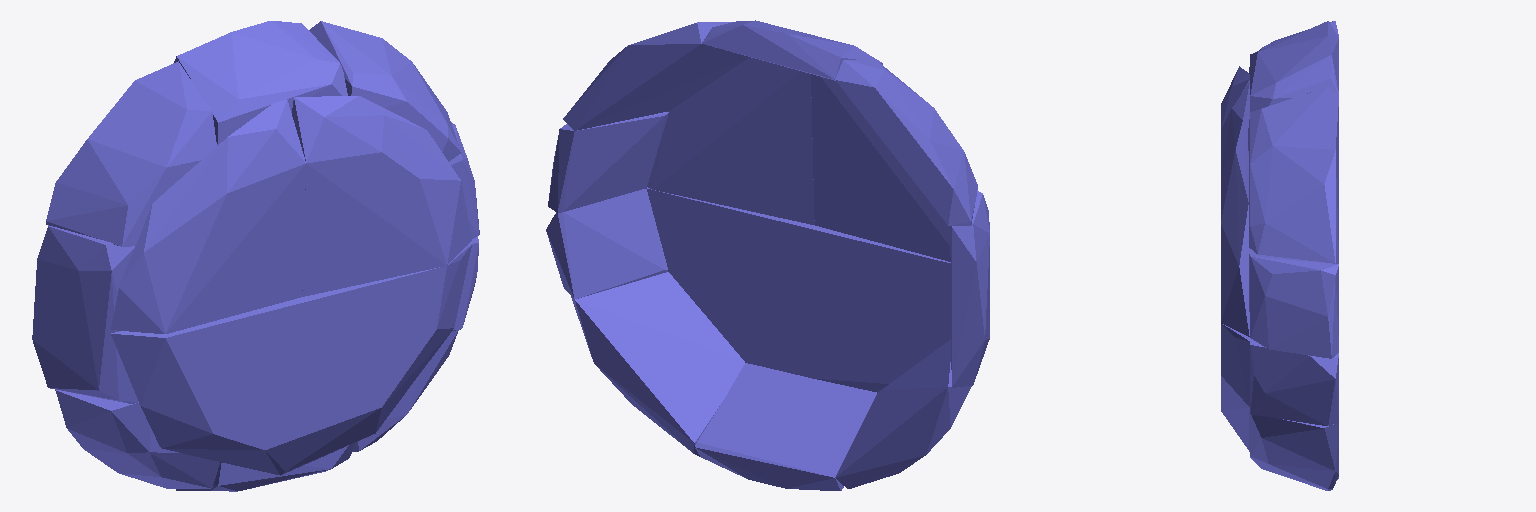
URDF robot description (root):
<robot name="root">
  <link name="link_bowl_6p25in_decomp_convex_piece_0">
    <inertial>
      <origin rpy="0 0 0" xyz="0 0 0"/>
      <mass value="2.82E-02"/>
      <inertia ixx="4.46E-05" ixy="-2.72E-07" ixz="-4.01E-08" iyy="5.36E-05" iyz="2.66E-05" izz="4.52E-05"/>
    </inertial>
    <visual>
      <origin rpy="0 0 0" xyz="0 0 0"/>
      <geometry>
        <mesh filename="bowl_6p25in_decomp_convex_piece_0.obj" scale="1.0000E+00 1.0000E+00 1.0000E+00"/>
      </geometry>
      <material name="">
        <color rgba="5.00E-01 5.00E-01 9.00E-01 1"/>
      </material>
    </visual>
    <collision>
      <origin rpy="0 0 0" xyz="0 0 0"/>
      <geometry>
        <mesh filename="bowl_6p25in_decomp_convex_piece_0.obj" scale="1.0000E+00 1.0000E+00 1.0000E+00"/>
      </geometry>
    </collision>
  </link>
  <link name="link_bowl_6p25in_decomp_convex_piece_1">
    <inertial>
      <origin rpy="0 0 0" xyz="0 0 0"/>
      <mass value="1.06E-02"/>
      <inertia ixx="2.54E-05" ixy="7.83E-06" ixz="-2.60E-05" iyy="5.73E-05" iyz="-8.03E-06" izz="2.43E-05"/>
    </inertial>
    <visual>
      <origin rpy="0 0 0" xyz="0 0 0"/>
      <geometry>
        <mesh filename="bowl_6p25in_decomp_convex_piece_1.obj" scale="1.0000E+00 1.0000E+00 1.0000E+00"/>
      </geometry>
      <material name="">
        <color rgba="5.00E-01 5.00E-01 9.00E-01 1"/>
      </material>
    </visual>
    <collision>
      <origin rpy="0 0 0" xyz="0 0 0"/>
      <geometry>
        <mesh filename="bowl_6p25in_decomp_convex_piece_1.obj" scale="1.0000E+00 1.0000E+00 1.0000E+00"/>
      </geometry>
    </collision>
  </link>
  <joint name="link_bowl_6p25in_decomp_convex_piece_1_joint" type="fixed">
    <origin rpy="0 0 0" xyz="0 0 0"/>
    <parent link="link_bowl_6p25in_decomp_convex_piece_0"/>
    <child link="link_bowl_6p25in_decomp_convex_piece_1"/>
  </joint>
  <link name="link_bowl_6p25in_decomp_convex_piece_2">
    <inertial>
      <origin rpy="0 0 0" xyz="0 0 0"/>
      <mass value="1.40E-02"/>
      <inertia ixx="2.35E-05" ixy="1.42E-05" ixz="-9.40E-06" iyy="2.97E-05" iyz="-1.38E-05" izz="2.41E-05"/>
    </inertial>
    <visual>
      <origin rpy="0 0 0" xyz="0 0 0"/>
      <geometry>
        <mesh filename="bowl_6p25in_decomp_convex_piece_2.obj" scale="1.0000E+00 1.0000E+00 1.0000E+00"/>
      </geometry>
      <material name="">
        <color rgba="5.00E-01 5.00E-01 9.00E-01 1"/>
      </material>
    </visual>
    <collision>
      <origin rpy="0 0 0" xyz="0 0 0"/>
      <geometry>
        <mesh filename="bowl_6p25in_decomp_convex_piece_2.obj" scale="1.0000E+00 1.0000E+00 1.0000E+00"/>
      </geometry>
    </collision>
  </link>
  <joint name="link_bowl_6p25in_decomp_convex_piece_2_joint" type="fixed">
    <origin rpy="0 0 0" xyz="0 0 0"/>
    <parent link="link_bowl_6p25in_decomp_convex_piece_1"/>
    <child link="link_bowl_6p25in_decomp_convex_piece_2"/>
  </joint>
  <link name="link_bowl_6p25in_decomp_convex_piece_3">
    <inertial>
      <origin rpy="0 0 0" xyz="0 0 0"/>
      <mass value="1.43E-02"/>
      <inertia ixx="2.45E-05" ixy="-1.42E-05" ixz="9.65E-06" iyy="3.03E-05" iyz="-1.44E-05" izz="2.42E-05"/>
    </inertial>
    <visual>
      <origin rpy="0 0 0" xyz="0 0 0"/>
      <geometry>
        <mesh filename="bowl_6p25in_decomp_convex_piece_3.obj" scale="1.0000E+00 1.0000E+00 1.0000E+00"/>
      </geometry>
      <material name="">
        <color rgba="5.00E-01 5.00E-01 9.00E-01 1"/>
      </material>
    </visual>
    <collision>
      <origin rpy="0 0 0" xyz="0 0 0"/>
      <geometry>
        <mesh filename="bowl_6p25in_decomp_convex_piece_3.obj" scale="1.0000E+00 1.0000E+00 1.0000E+00"/>
      </geometry>
    </collision>
  </link>
  <joint name="link_bowl_6p25in_decomp_convex_piece_3_joint" type="fixed">
    <origin rpy="0 0 0" xyz="0 0 0"/>
    <parent link="link_bowl_6p25in_decomp_convex_piece_2"/>
    <child link="link_bowl_6p25in_decomp_convex_piece_3"/>
  </joint>
  <link name="link_bowl_6p25in_decomp_convex_piece_4">
    <inertial>
      <origin rpy="0 0 0" xyz="0 0 0"/>
      <mass value="1.06E-02"/>
      <inertia ixx="2.56E-05" ixy="7.92E-06" ixz="2.64E-05" iyy="5.77E-05" iyz="8.10E-06" izz="2.44E-05"/>
    </inertial>
    <visual>
      <origin rpy="0 0 0" xyz="0 0 0"/>
      <geometry>
        <mesh filename="bowl_6p25in_decomp_convex_piece_4.obj" scale="1.0000E+00 1.0000E+00 1.0000E+00"/>
      </geometry>
      <material name="">
        <color rgba="5.00E-01 5.00E-01 9.00E-01 1"/>
      </material>
    </visual>
    <collision>
      <origin rpy="0 0 0" xyz="0 0 0"/>
      <geometry>
        <mesh filename="bowl_6p25in_decomp_convex_piece_4.obj" scale="1.0000E+00 1.0000E+00 1.0000E+00"/>
      </geometry>
    </collision>
  </link>
  <joint name="link_bowl_6p25in_decomp_convex_piece_4_joint" type="fixed">
    <origin rpy="0 0 0" xyz="0 0 0"/>
    <parent link="link_bowl_6p25in_decomp_convex_piece_3"/>
    <child link="link_bowl_6p25in_decomp_convex_piece_4"/>
  </joint>
  <link name="link_bowl_6p25in_decomp_convex_piece_5">
    <inertial>
      <origin rpy="0 0 0" xyz="0 0 0"/>
      <mass value="1.01E-02"/>
      <inertia ixx="4.75E-05" ixy="1.25E-07" ixz="4.90E-07" iyy="5.30E-05" iyz="1.17E-05" izz="-7.65E-07"/>
    </inertial>
    <visual>
      <origin rpy="0 0 0" xyz="0 0 0"/>
      <geometry>
        <mesh filename="bowl_6p25in_decomp_convex_piece_5.obj" scale="1.0000E+00 1.0000E+00 1.0000E+00"/>
      </geometry>
      <material name="">
        <color rgba="5.00E-01 5.00E-01 9.00E-01 1"/>
      </material>
    </visual>
    <collision>
      <origin rpy="0 0 0" xyz="0 0 0"/>
      <geometry>
        <mesh filename="bowl_6p25in_decomp_convex_piece_5.obj" scale="1.0000E+00 1.0000E+00 1.0000E+00"/>
      </geometry>
    </collision>
  </link>
  <joint name="link_bowl_6p25in_decomp_convex_piece_5_joint" type="fixed">
    <origin rpy="0 0 0" xyz="0 0 0"/>
    <parent link="link_bowl_6p25in_decomp_convex_piece_4"/>
    <child link="link_bowl_6p25in_decomp_convex_piece_5"/>
  </joint>
  <link name="link_bowl_6p25in_decomp_convex_piece_6">
    <inertial>
      <origin rpy="0 0 0" xyz="0 0 0"/>
      <mass value="1.12E-02"/>
      <inertia ixx="2.95E-05" ixy="-7.97E-06" ixz="2.73E-05" iyy="6.06E-05" iyz="-9.02E-06" izz="2.32E-05"/>
    </inertial>
    <visual>
      <origin rpy="0 0 0" xyz="0 0 0"/>
      <geometry>
        <mesh filename="bowl_6p25in_decomp_convex_piece_6.obj" scale="1.0000E+00 1.0000E+00 1.0000E+00"/>
      </geometry>
      <material name="">
        <color rgba="5.00E-01 5.00E-01 9.00E-01 1"/>
      </material>
    </visual>
    <collision>
      <origin rpy="0 0 0" xyz="0 0 0"/>
      <geometry>
        <mesh filename="bowl_6p25in_decomp_convex_piece_6.obj" scale="1.0000E+00 1.0000E+00 1.0000E+00"/>
      </geometry>
    </collision>
  </link>
  <joint name="link_bowl_6p25in_decomp_convex_piece_6_joint" type="fixed">
    <origin rpy="0 0 0" xyz="0 0 0"/>
    <parent link="link_bowl_6p25in_decomp_convex_piece_5"/>
    <child link="link_bowl_6p25in_decomp_convex_piece_6"/>
  </joint>
  <link name="link_bowl_6p25in_decomp_convex_piece_7">
    <inertial>
      <origin rpy="0 0 0" xyz="0 0 0"/>
      <mass value="1.12E-02"/>
      <inertia ixx="-4.55E-07" ixy="1.25E-05" ixz="-3.33E-07" iyy="5.79E-05" iyz="-1.23E-07" izz="5.11E-05"/>
    </inertial>
    <visual>
      <origin rpy="0 0 0" xyz="0 0 0"/>
      <geometry>
        <mesh filename="bowl_6p25in_decomp_convex_piece_7.obj" scale="1.0000E+00 1.0000E+00 1.0000E+00"/>
      </geometry>
      <material name="">
        <color rgba="5.00E-01 5.00E-01 9.00E-01 1"/>
      </material>
    </visual>
    <collision>
      <origin rpy="0 0 0" xyz="0 0 0"/>
      <geometry>
        <mesh filename="bowl_6p25in_decomp_convex_piece_7.obj" scale="1.0000E+00 1.0000E+00 1.0000E+00"/>
      </geometry>
    </collision>
  </link>
  <joint name="link_bowl_6p25in_decomp_convex_piece_7_joint" type="fixed">
    <origin rpy="0 0 0" xyz="0 0 0"/>
    <parent link="link_bowl_6p25in_decomp_convex_piece_6"/>
    <child link="link_bowl_6p25in_decomp_convex_piece_7"/>
  </joint>
  <link name="link_bowl_6p25in_decomp_convex_piece_8">
    <inertial>
      <origin rpy="0 0 0" xyz="0 0 0"/>
      <mass value="5.06E-03"/>
      <inertia ixx="3.91E-08" ixy="-5.86E-06" ixz="5.57E-06" iyy="2.77E-05" iyz="-1.32E-06" izz="2.45E-05"/>
    </inertial>
    <visual>
      <origin rpy="0 0 0" xyz="0 0 0"/>
      <geometry>
        <mesh filename="bowl_6p25in_decomp_convex_piece_8.obj" scale="1.0000E+00 1.0000E+00 1.0000E+00"/>
      </geometry>
      <material name="">
        <color rgba="5.00E-01 5.00E-01 9.00E-01 1"/>
      </material>
    </visual>
    <collision>
      <origin rpy="0 0 0" xyz="0 0 0"/>
      <geometry>
        <mesh filename="bowl_6p25in_decomp_convex_piece_8.obj" scale="1.0000E+00 1.0000E+00 1.0000E+00"/>
      </geometry>
    </collision>
  </link>
  <joint name="link_bowl_6p25in_decomp_convex_piece_8_joint" type="fixed">
    <origin rpy="0 0 0" xyz="0 0 0"/>
    <parent link="link_bowl_6p25in_decomp_convex_piece_7"/>
    <child link="link_bowl_6p25in_decomp_convex_piece_8"/>
  </joint>
  <link name="link_bowl_6p25in_decomp_convex_piece_9">
    <inertial>
      <origin rpy="0 0 0" xyz="0 0 0"/>
      <mass value="1.07E-02"/>
      <inertia ixx="2.73E-05" ixy="-7.79E-06" ixz="-2.62E-05" iyy="5.78E-05" iyz="8.50E-06" izz="2.30E-05"/>
    </inertial>
    <visual>
      <origin rpy="0 0 0" xyz="0 0 0"/>
      <geometry>
        <mesh filename="bowl_6p25in_decomp_convex_piece_9.obj" scale="1.0000E+00 1.0000E+00 1.0000E+00"/>
      </geometry>
      <material name="">
        <color rgba="5.00E-01 5.00E-01 9.00E-01 1"/>
      </material>
    </visual>
    <collision>
      <origin rpy="0 0 0" xyz="0 0 0"/>
      <geometry>
        <mesh filename="bowl_6p25in_decomp_convex_piece_9.obj" scale="1.0000E+00 1.0000E+00 1.0000E+00"/>
      </geometry>
    </collision>
  </link>
  <joint name="link_bowl_6p25in_decomp_convex_piece_9_joint" type="fixed">
    <origin rpy="0 0 0" xyz="0 0 0"/>
    <parent link="link_bowl_6p25in_decomp_convex_piece_8"/>
    <child link="link_bowl_6p25in_decomp_convex_piece_9"/>
  </joint>
  <link name="link_bowl_6p25in_decomp_convex_piece_10">
    <inertial>
      <origin rpy="0 0 0" xyz="0 0 0"/>
      <mass value="9.32E-03"/>
      <inertia ixx="4.42E-05" ixy="4.01E-07" ixz="-1.63E-06" iyy="4.92E-05" iyz="-1.07E-05" izz="-9.24E-07"/>
    </inertial>
    <visual>
      <origin rpy="0 0 0" xyz="0 0 0"/>
      <geometry>
        <mesh filename="bowl_6p25in_decomp_convex_piece_10.obj" scale="1.0000E+00 1.0000E+00 1.0000E+00"/>
      </geometry>
      <material name="">
        <color rgba="5.00E-01 5.00E-01 9.00E-01 1"/>
      </material>
    </visual>
    <collision>
      <origin rpy="0 0 0" xyz="0 0 0"/>
      <geometry>
        <mesh filename="bowl_6p25in_decomp_convex_piece_10.obj" scale="1.0000E+00 1.0000E+00 1.0000E+00"/>
      </geometry>
    </collision>
  </link>
  <joint name="link_bowl_6p25in_decomp_convex_piece_10_joint" type="fixed">
    <origin rpy="0 0 0" xyz="0 0 0"/>
    <parent link="link_bowl_6p25in_decomp_convex_piece_9"/>
    <child link="link_bowl_6p25in_decomp_convex_piece_10"/>
  </joint>
  <link name="link_bowl_6p25in_decomp_convex_piece_11">
    <inertial>
      <origin rpy="0 0 0" xyz="0 0 0"/>
      <mass value="4.73E-03"/>
      <inertia ixx="1.51E-07" ixy="-5.54E-06" ixz="-5.41E-06" iyy="2.58E-05" iyz="1.32E-06" izz="2.27E-05"/>
    </inertial>
    <visual>
      <origin rpy="0 0 0" xyz="0 0 0"/>
      <geometry>
        <mesh filename="bowl_6p25in_decomp_convex_piece_11.obj" scale="1.0000E+00 1.0000E+00 1.0000E+00"/>
      </geometry>
      <material name="">
        <color rgba="5.00E-01 5.00E-01 9.00E-01 1"/>
      </material>
    </visual>
    <collision>
      <origin rpy="0 0 0" xyz="0 0 0"/>
      <geometry>
        <mesh filename="bowl_6p25in_decomp_convex_piece_11.obj" scale="1.0000E+00 1.0000E+00 1.0000E+00"/>
      </geometry>
    </collision>
  </link>
  <joint name="link_bowl_6p25in_decomp_convex_piece_11_joint" type="fixed">
    <origin rpy="0 0 0" xyz="0 0 0"/>
    <parent link="link_bowl_6p25in_decomp_convex_piece_10"/>
    <child link="link_bowl_6p25in_decomp_convex_piece_11"/>
  </joint>
</robot>

--- Facts derived from the render (not from the file) ---
Views: 3 orthographic renders of the robot side by side, from view 1: azimuth 30°, elevation 25°; view 2: azimuth 150°, elevation 25°; view 3: azimuth 270°, elevation 25°.
Model root with 12 links and 11 joints (11 fixed), rooted at link_bowl_6p25in_decomp_convex_piece_0, posed all joints at 0.
Visible links, largest first — view 1: link_bowl_6p25in_decomp_convex_piece_0, link_bowl_6p25in_decomp_convex_piece_2, link_bowl_6p25in_decomp_convex_piece_3, link_bowl_6p25in_decomp_convex_piece_1, link_bowl_6p25in_decomp_convex_piece_7, link_bowl_6p25in_decomp_convex_piece_10, link_bowl_6p25in_decomp_convex_piece_4, link_bowl_6p25in_decomp_convex_piece_6, link_bowl_6p25in_decomp_convex_piece_5, link_bowl_6p25in_decomp_convex_piece_9, link_bowl_6p25in_decomp_convex_piece_8, link_bowl_6p25in_decomp_convex_piece_11; view 2: link_bowl_6p25in_decomp_convex_piece_0, link_bowl_6p25in_decomp_convex_piece_3, link_bowl_6p25in_decomp_convex_piece_9, link_bowl_6p25in_decomp_convex_piece_5, link_bowl_6p25in_decomp_convex_piece_2, link_bowl_6p25in_decomp_convex_piece_1, link_bowl_6p25in_decomp_convex_piece_6, link_bowl_6p25in_decomp_convex_piece_4, link_bowl_6p25in_decomp_convex_piece_11, link_bowl_6p25in_decomp_convex_piece_8, link_bowl_6p25in_decomp_convex_piece_7, link_bowl_6p25in_decomp_convex_piece_10; view 3: link_bowl_6p25in_decomp_convex_piece_6, link_bowl_6p25in_decomp_convex_piece_8, link_bowl_6p25in_decomp_convex_piece_3, link_bowl_6p25in_decomp_convex_piece_11, link_bowl_6p25in_decomp_convex_piece_10, link_bowl_6p25in_decomp_convex_piece_9, link_bowl_6p25in_decomp_convex_piece_0, link_bowl_6p25in_decomp_convex_piece_2.
Link boxes in pixels (x1,y1,x2,y2): link_bowl_6p25in_decomp_convex_piece_0: (111,244,471,475); link_bowl_6p25in_decomp_convex_piece_2: (111,99,305,333); link_bowl_6p25in_decomp_convex_piece_3: (292,96,471,296); link_bowl_6p25in_decomp_convex_piece_1: (46,61,216,246); link_bowl_6p25in_decomp_convex_piece_7: (32,225,138,403); link_bowl_6p25in_decomp_convex_piece_10: (174,21,347,145); link_bowl_6p25in_decomp_convex_piece_4: (55,390,219,488); link_bowl_6p25in_decomp_convex_piece_6: (309,21,461,161); link_bowl_6p25in_decomp_convex_piece_5: (176,443,353,491); link_bowl_6p25in_decomp_convex_piece_9: (351,330,458,452); link_bowl_6p25in_decomp_convex_piece_8: (449,122,479,238); link_bowl_6p25in_decomp_convex_piece_11: (453,236,478,330); link_bowl_6p25in_decomp_convex_piece_0: (646,187,950,392); link_bowl_6p25in_decomp_convex_piece_3: (647,57,814,224); link_bowl_6p25in_decomp_convex_piece_9: (571,272,744,456); link_bowl_6p25in_decomp_convex_piece_5: (695,363,876,490); link_bowl_6p25in_decomp_convex_piece_2: (811,74,950,261); link_bowl_6p25in_decomp_convex_piece_1: (835,60,977,225); link_bowl_6p25in_decomp_convex_piece_6: (563,22,749,130); link_bowl_6p25in_decomp_convex_piece_4: (835,339,971,488); link_bowl_6p25in_decomp_convex_piece_11: (546,189,667,298); link_bowl_6p25in_decomp_convex_piece_8: (548,112,668,212); link_bowl_6p25in_decomp_convex_piece_7: (950,190,989,387); link_bowl_6p25in_decomp_convex_piece_10: (702,20,882,80); link_bowl_6p25in_decomp_convex_piece_6: (1248,87,1338,263); link_bowl_6p25in_decomp_convex_piece_8: (1249,248,1338,358); link_bowl_6p25in_decomp_convex_piece_3: (1221,83,1249,336); link_bowl_6p25in_decomp_convex_piece_11: (1250,338,1338,425); link_bowl_6p25in_decomp_convex_piece_10: (1250,21,1338,111); link_bowl_6p25in_decomp_convex_piece_9: (1249,411,1338,490); link_bowl_6p25in_decomp_convex_piece_0: (1221,323,1249,451); link_bowl_6p25in_decomp_convex_piece_2: (1221,66,1249,128).
Bounding box of the posed robot: 0.1689 × 0.0426 × 0.1689 m (x, y, z).
Meshes: 12 distinct files referenced, 12 mesh visuals loaded (12 OBJ).